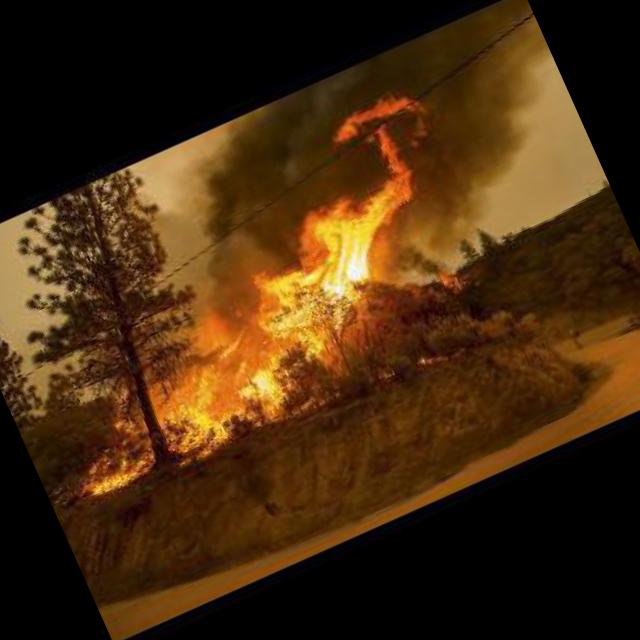fire: (0, 82, 518, 502)
